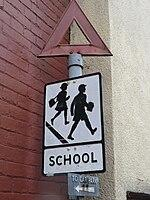School Ahead: (43, 74, 111, 174)
